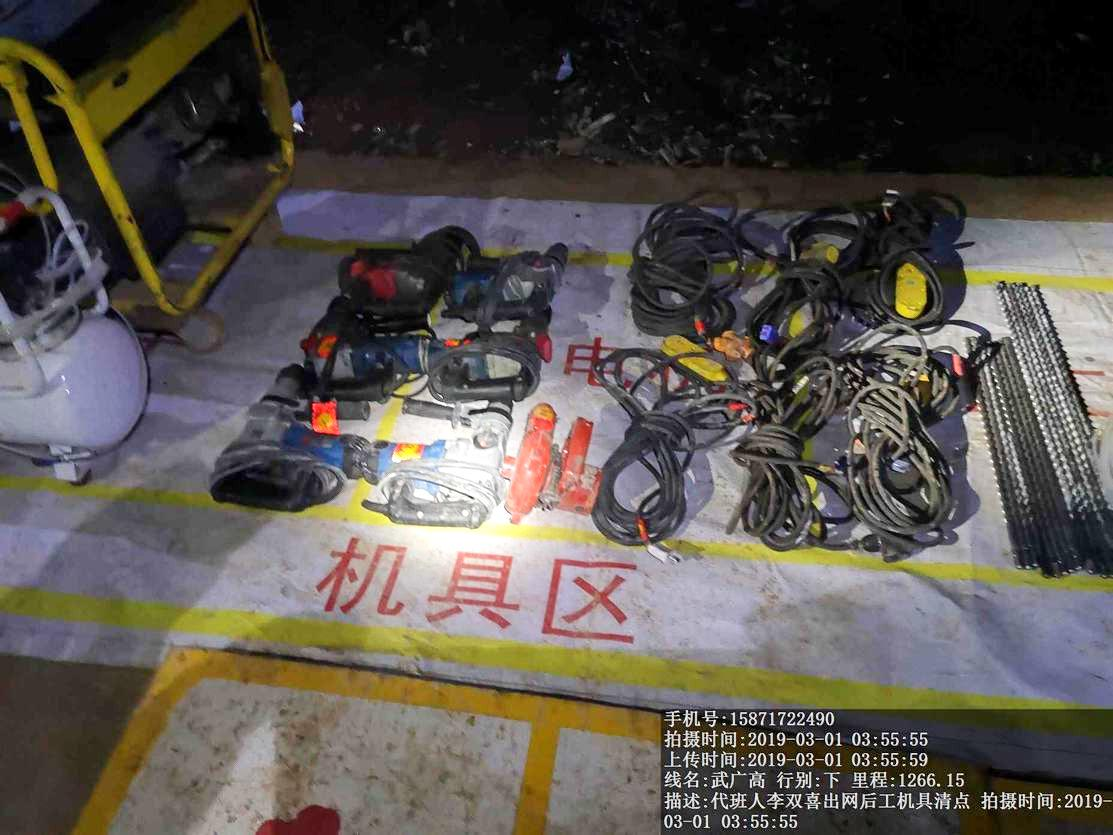DJ: (1, 1, 334, 257)
DZ: (357, 393, 521, 527), (215, 367, 376, 502), (449, 210, 570, 326)
